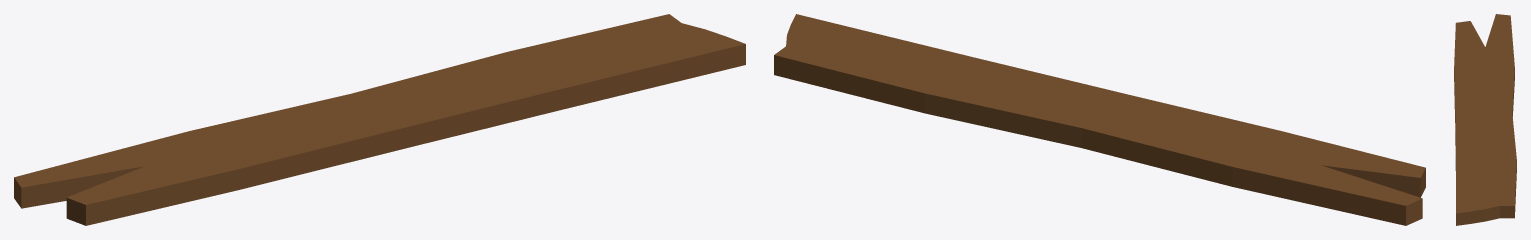
The model's file is WoodenPlank_02.fbx.
3 renders of one model, left to right at view 1: azimuth 30°, elevation 25°; view 2: azimuth 150°, elevation 25°; view 3: azimuth 270°, elevation 25°, orthographic. The views are drawn at different scales.
Visible parts, largest first — view 1: WoodenPlank_02; view 2: WoodenPlank_02; view 3: WoodenPlank_02.
Part boxes in pixels (x1,y1,x2,y2): WoodenPlank_02: [14, 14, 745, 225]; WoodenPlank_02: [774, 14, 1425, 225]; WoodenPlank_02: [1454, 14, 1516, 225].
Bounding box in the file's own units: 176 × 5.13 × 23.45.
